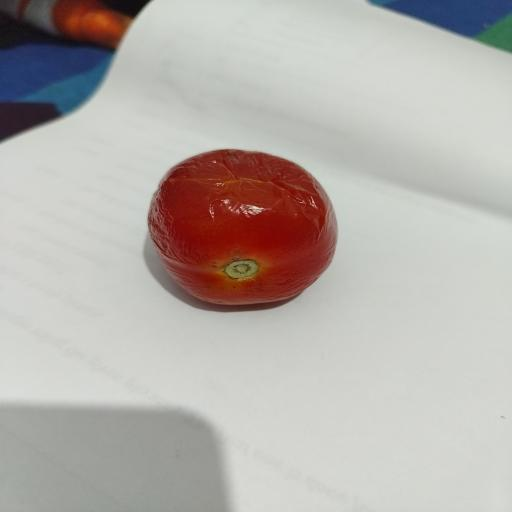spoiled: (148, 150, 337, 304)
